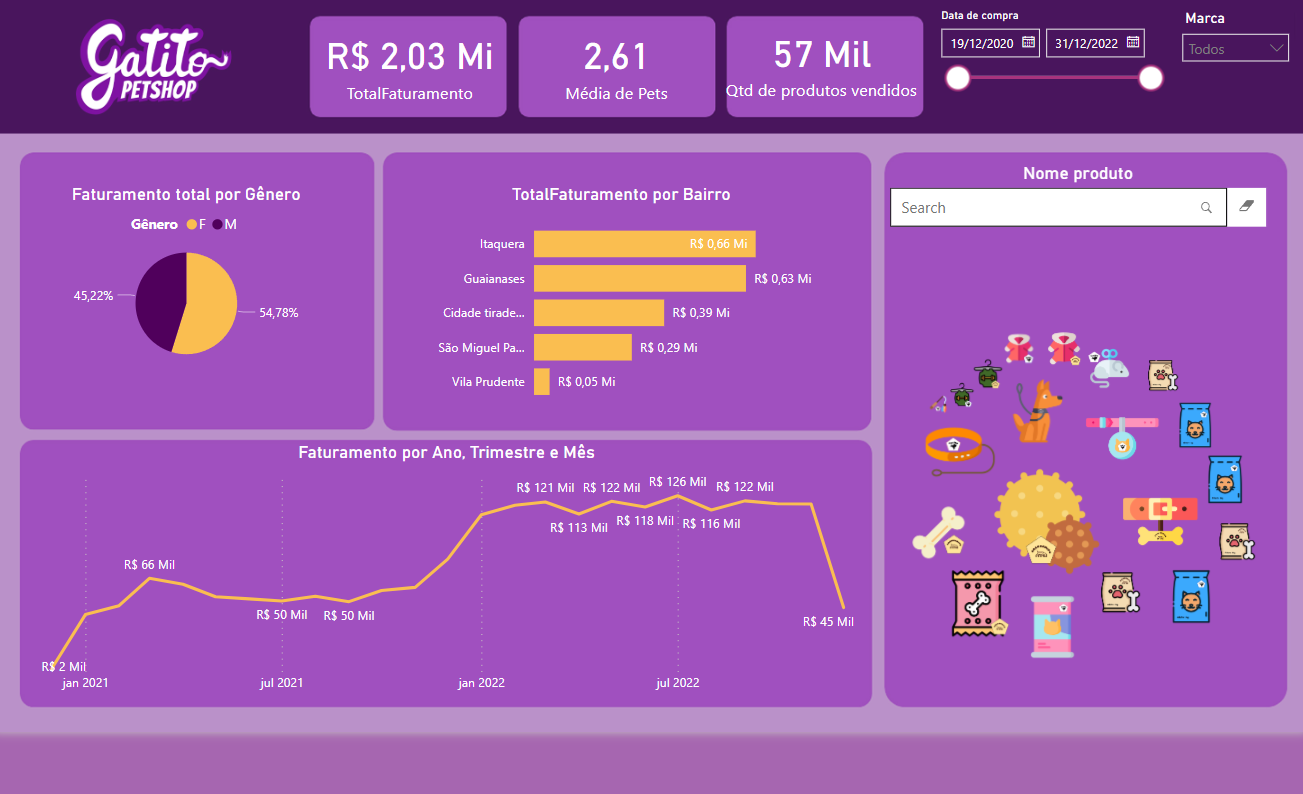

What the dashboard file says about the page in this screenshot:
{"tool":"powerbi","page":{"name":"Página 1","canvas":[1280,720],"ordinal":0},"visuals":[{"type":"card","fields":{"Values":["Vendas.TotalFaturamento"]},"box":[310.3,17.5,190.6,104.1],"z":0},{"type":"card","fields":{"Values":["Avg(Clientes.Pets)"]},"box":[509.7,17.5,193.6,104.1],"z":1000},{"type":"card","fields":{"Values":["Sum(Vendas.Quantidade)"]},"box":[703.2,12.6,207.2,108.9],"z":2000},{"type":"pieChart","title":"Faturamento total por Gênero","fields":{"Category":["Clientes.Gênero"],"Y":["Vendas.TotalFaturamento"]},"box":[21.4,186.7,333.6,184.8],"z":3000},{"type":"clusteredBarChart","fields":{"Category":["Clientes.Bairro"],"Y":["Vendas.TotalFaturamento"]},"box":[415.3,186.7,392,224.7],"z":4000},{"type":"lineChart","title":"Faturamento por Ano, Trimestre e Mês","fields":{"Category":["Vendas.Data de compra.Variation.Hierarquia de datas.Ano","Vendas.Data de compra.Variation.Hierarquia de datas.Trimestre","Vendas.Data de compra.Variation.Hierarquia de datas.Mês","Vendas.Data de compra.Variation.Hierarquia de datas.Dia"],"Y":["Vendas.TotalFaturamento"]},"box":[29.2,437.7,824.8,252.9],"z":5000},{"type":"ImageGrid_FC5183B9_926C_45E0_B5F7_0CE9EAF1DA9B","fields":{"ImageURL":["Produtos.Url img"]},"box":[868,288,388,403],"z":6000},{"type":"textFilter25A4896A83E0487089E2B90C9AE57C8A","fields":{"field":["Produtos.Nome produto"]},"box":[868,166,376,113],"z":7000},{"type":"slicer","fields":{"Values":["Produtos.Marca"]},"box":[1147.7,12.6,124.5,108.9],"z":8000},{"type":"slicer","fields":{"Values":["Vendas.Data de compra"]},"box":[910.4,11.7,237.3,135.2],"z":9000}]}

Visuals, with their boxes on the page's 1280x720 design canvas (x1, y1, x2, y2). These are canvas units, not pixel positions in the 1303x794 screenshot, which may show the page scaled, cropped or inside an application window:
card - Vendas.TotalFaturamento: left=310, top=18, right=501, bottom=122
card - Avg(Clientes.Pets): left=510, top=18, right=703, bottom=122
card - Sum(Vendas.Quantidade): left=703, top=13, right=910, bottom=122
"Faturamento total por Gênero" pieChart: left=21, top=187, right=355, bottom=372
clusteredBarChart - Clientes.Bairro x Vendas.TotalFaturamento: left=415, top=187, right=807, bottom=411
"Faturamento por Ano, Trimestre e Mês" lineChart: left=29, top=438, right=854, bottom=691
ImageGrid_FC5183B9_926C_45E0_B5F7_0CE9EAF1DA9B - Produtos.Url img: left=868, top=288, right=1256, bottom=691
textFilter25A4896A83E0487089E2B90C9AE57C8A - Produtos.Nome produto: left=868, top=166, right=1244, bottom=279
slicer - Produtos.Marca: left=1148, top=13, right=1272, bottom=122
slicer - Vendas.Data de compra: left=910, top=12, right=1148, bottom=147
